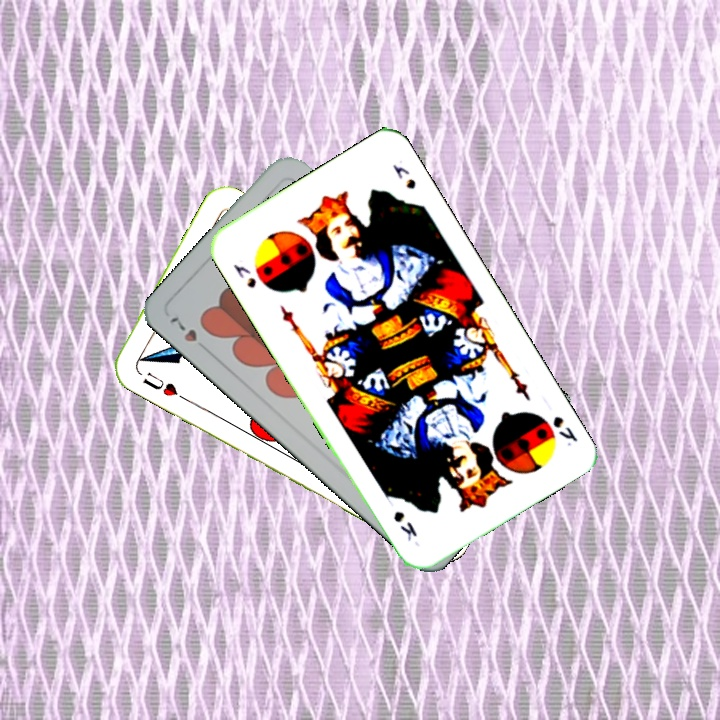H7: (166, 312, 200, 345)
HU: (138, 368, 188, 403)
SK: (548, 412, 581, 449), (229, 260, 259, 291)
